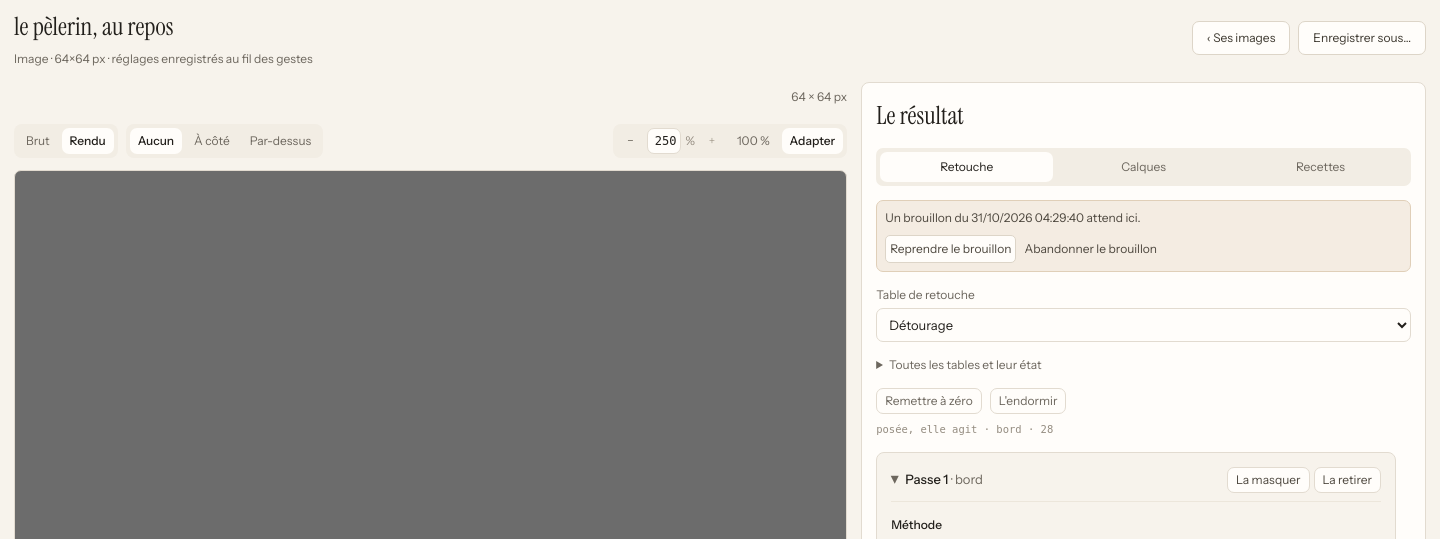
Test: le grossissement libre entre 1 et 250 % (B24, déménagé de Tables.tsx) › hors bornes, le champ ramène plutôt que de refuser
(page scrolled)
Replace the text in the field named "Pour cent d" with "9000" at [664, 140], box [648, 128, 682, 154]
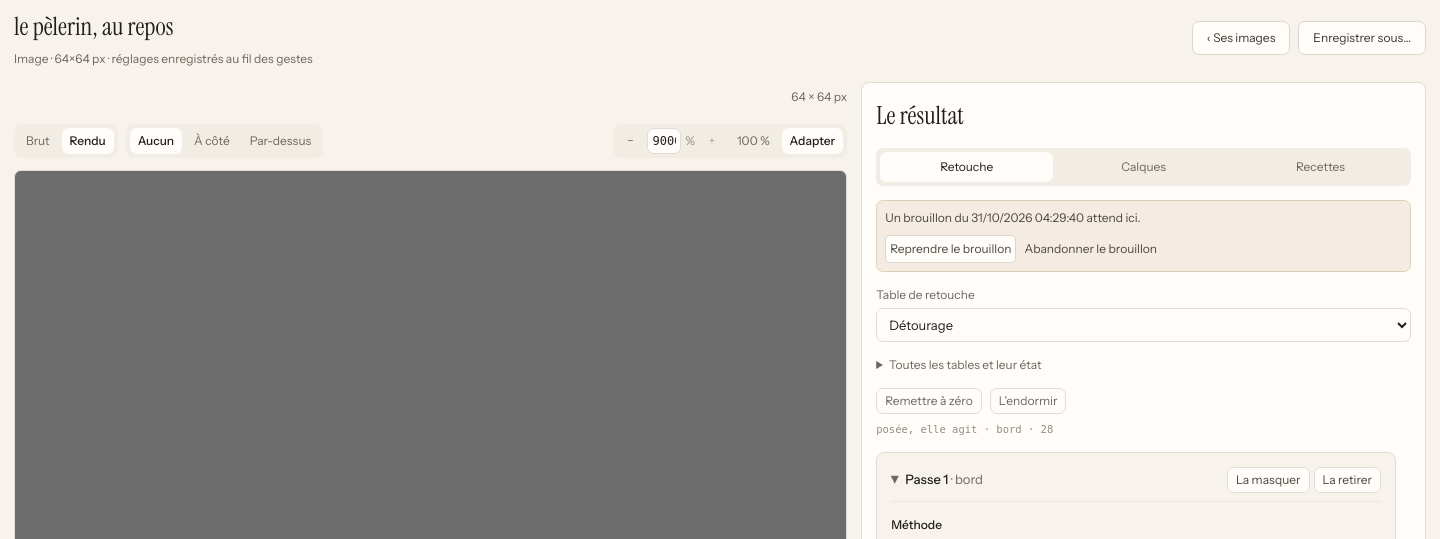
Press Enter in the field named "Pour cent d", box [648, 128, 682, 154]
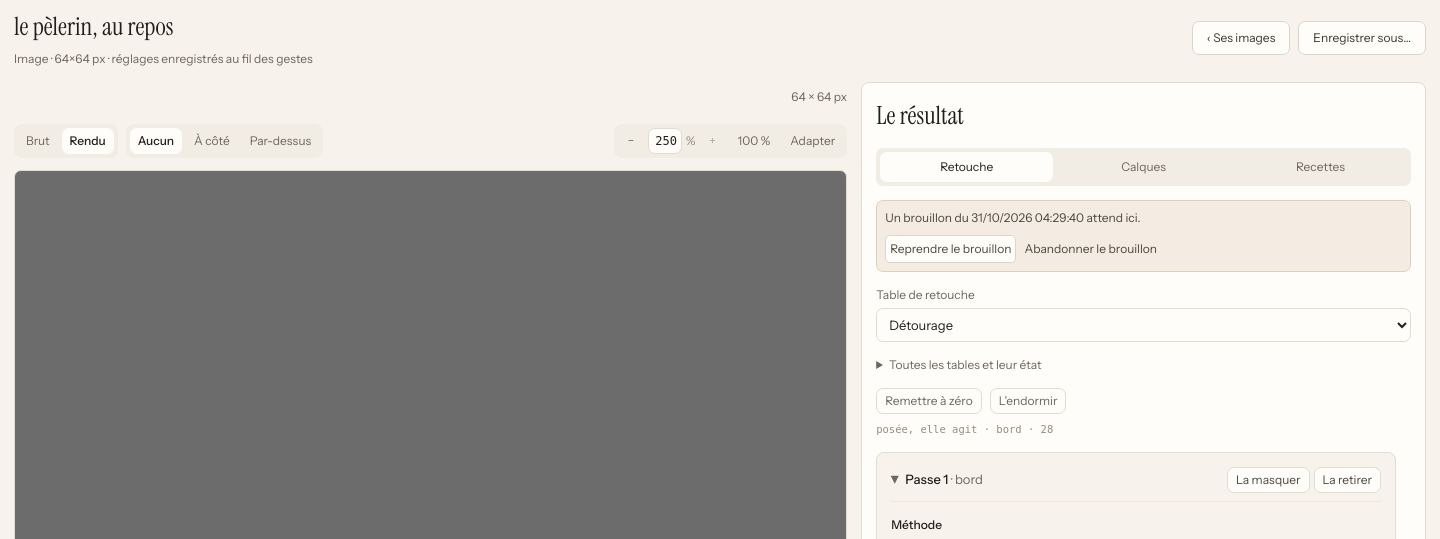
Expected: the field named "Pour cent d" holds "250", [648, 128, 682, 154]
